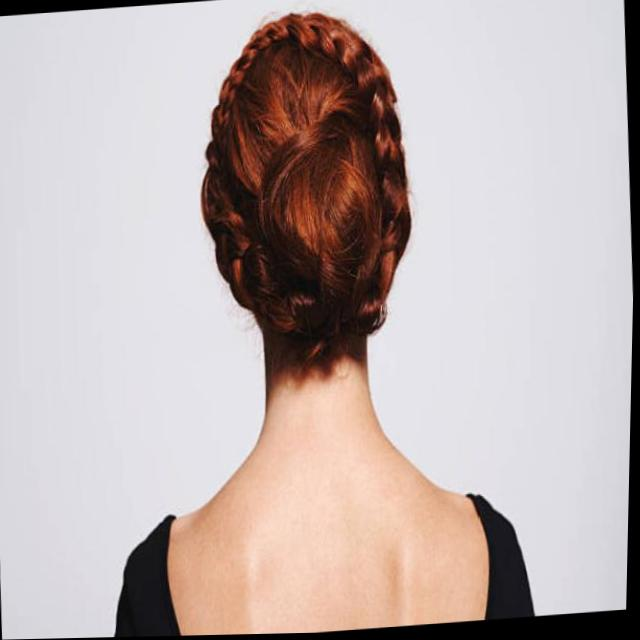no helmet: (188, 15, 424, 395)
